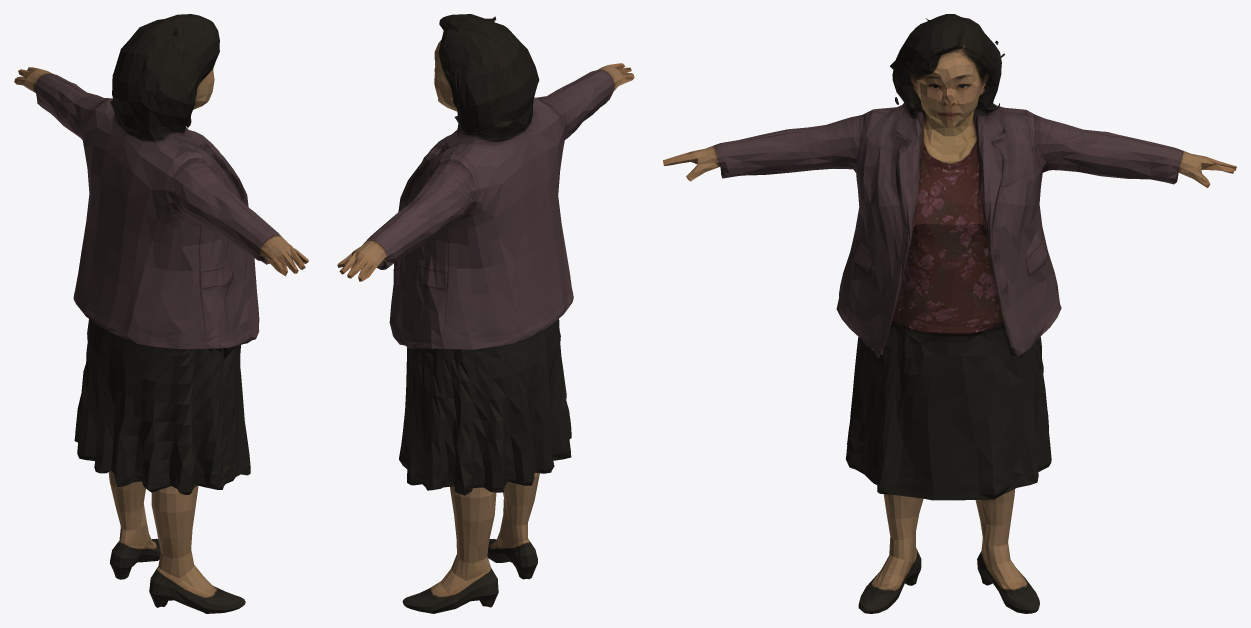
File: tripo_convert_06777973-118d-448a-8f92-1b0270c55947.obj
3 views of the same model, side by side, from view 1: azimuth 30°, elevation 25°; view 2: azimuth 150°, elevation 25°; view 3: azimuth 270°, elevation 25° (orthographic). The views are drawn at different scales.
Visible parts, largest first — view 1: tripo_node_06777973-118d-448a-8f92-1b0270c55947; view 2: tripo_node_06777973-118d-448a-8f92-1b0270c55947; view 3: tripo_node_06777973-118d-448a-8f92-1b0270c55947.
Part boxes in pixels (x1,y1,x2,y2): tripo_node_06777973-118d-448a-8f92-1b0270c55947: [14, 14, 308, 613]; tripo_node_06777973-118d-448a-8f92-1b0270c55947: [337, 14, 634, 613]; tripo_node_06777973-118d-448a-8f92-1b0270c55947: [663, 14, 1236, 613].
Bounding box in the file's own units: 0.251 × 0.998 × 0.8896.
Materials: 1 (1 with a texture image).
